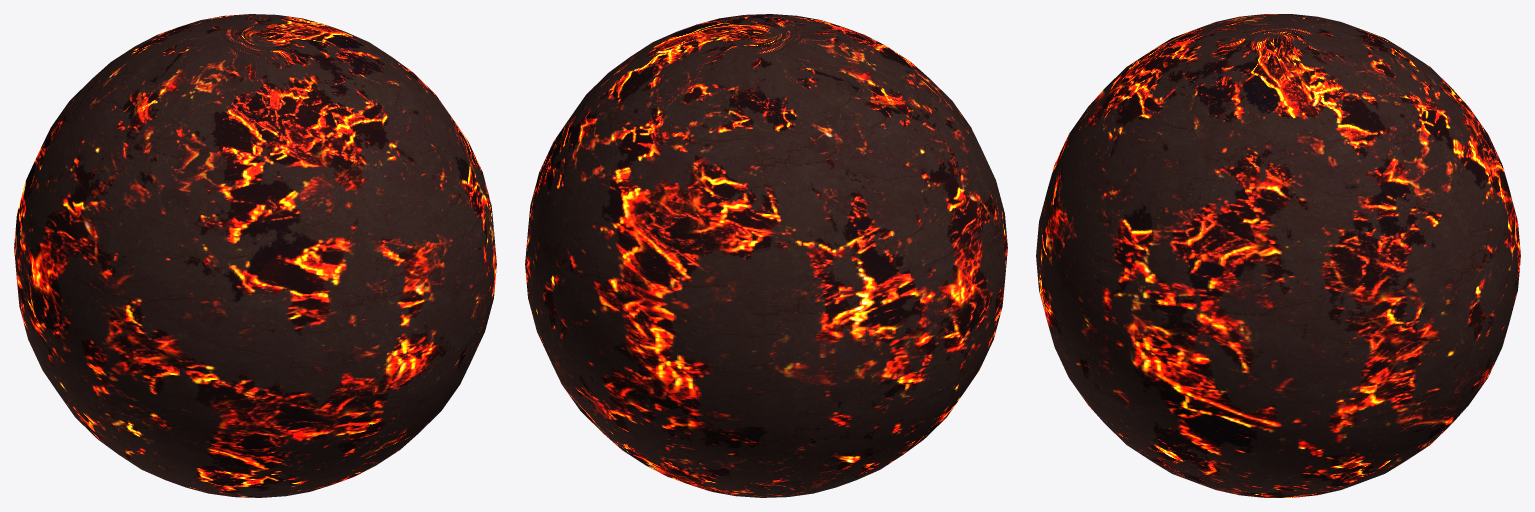
File: AngrV2.glb
The picture shows the model from 3 angles, left to right: view 1: azimuth 30°, elevation 25°; view 2: azimuth 150°, elevation 25°; view 3: azimuth 270°, elevation 25°; orthographic projection.
Visible parts, largest first — view 1: anger; view 2: anger; view 3: anger.
Part boxes in pixels (x1,y1,x2,y2): anger: [14, 14, 496, 497]; anger: [525, 14, 1007, 497]; anger: [1036, 14, 1520, 497].
Bounding box in the file's own units: 1.99 × 2 × 2.
Materials: 1 (1 with a texture image).
